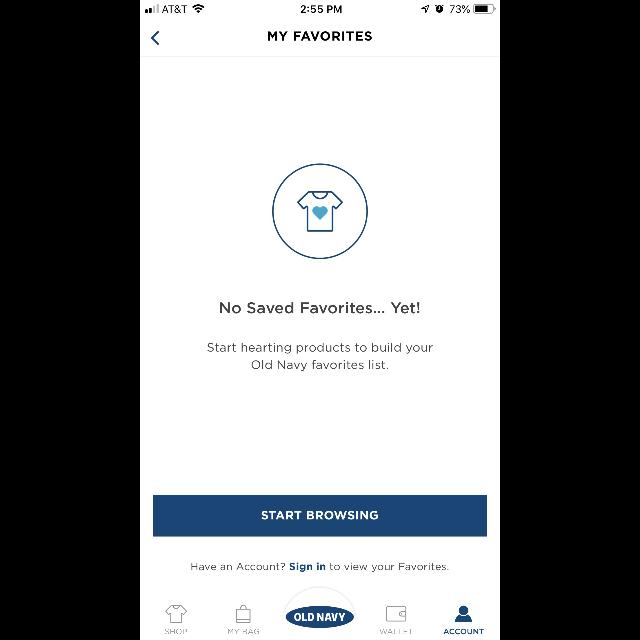icon: (386, 606, 406, 622), (237, 604, 251, 624), (456, 606, 472, 622), (150, 31, 160, 45)
image: (272, 163, 368, 259), (282, 588, 358, 628), (165, 605, 187, 623)
text: (208, 343, 432, 371), (188, 560, 448, 572), (220, 302, 420, 314), (268, 31, 372, 41), (444, 628, 484, 634), (228, 628, 260, 634), (380, 628, 412, 634), (165, 628, 187, 634)
textbutton: (154, 495, 486, 537)
uppertaskbar: (140, 0, 500, 14)
